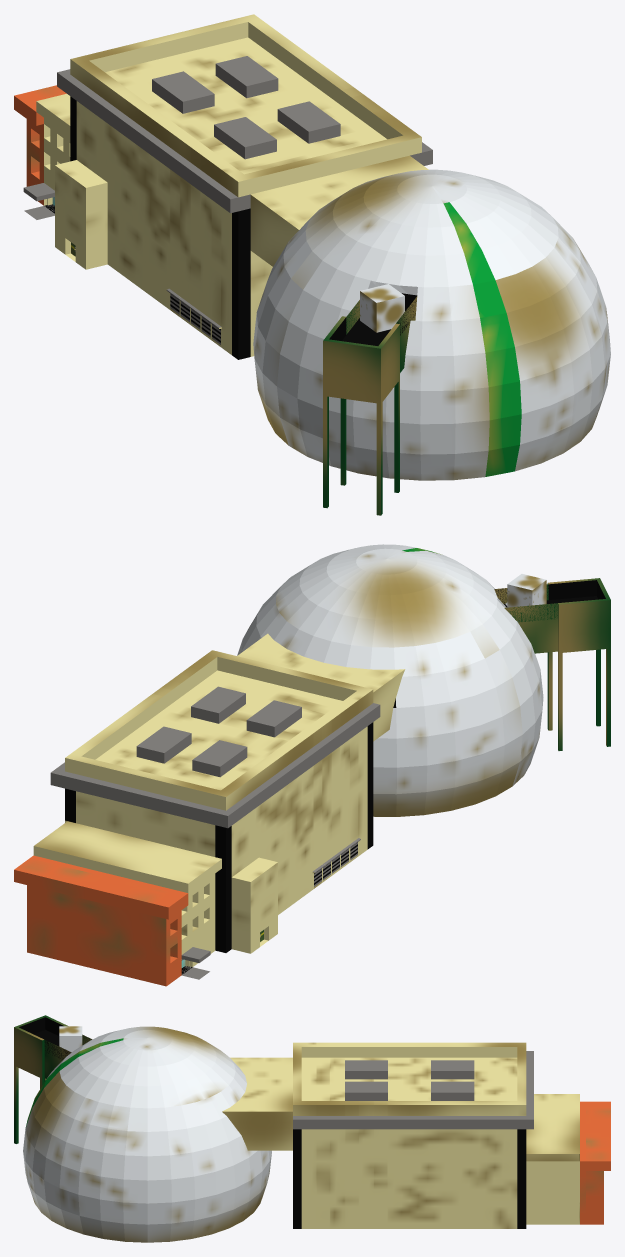
File: NUCLEAR.fbx
3 renders of one model, top to bottom at view 1: azimuth 30°, elevation 25°; view 2: azimuth 150°, elevation 25°; view 3: azimuth 270°, elevation 25°, orthographic. The views are drawn at different scales.
Visible parts, largest first — view 1: Cube.001; view 2: Cube.001; view 3: Cube.001.
Boxes of the visible parts, x1,y1,x2,y2 form: Cube.001: (14, 14, 610, 515); Cube.001: (14, 544, 610, 986); Cube.001: (14, 1015, 610, 1242).
Size of the model in its own units: 23.67 by 15.55 by 52.16.
1 material, 1 textured.
